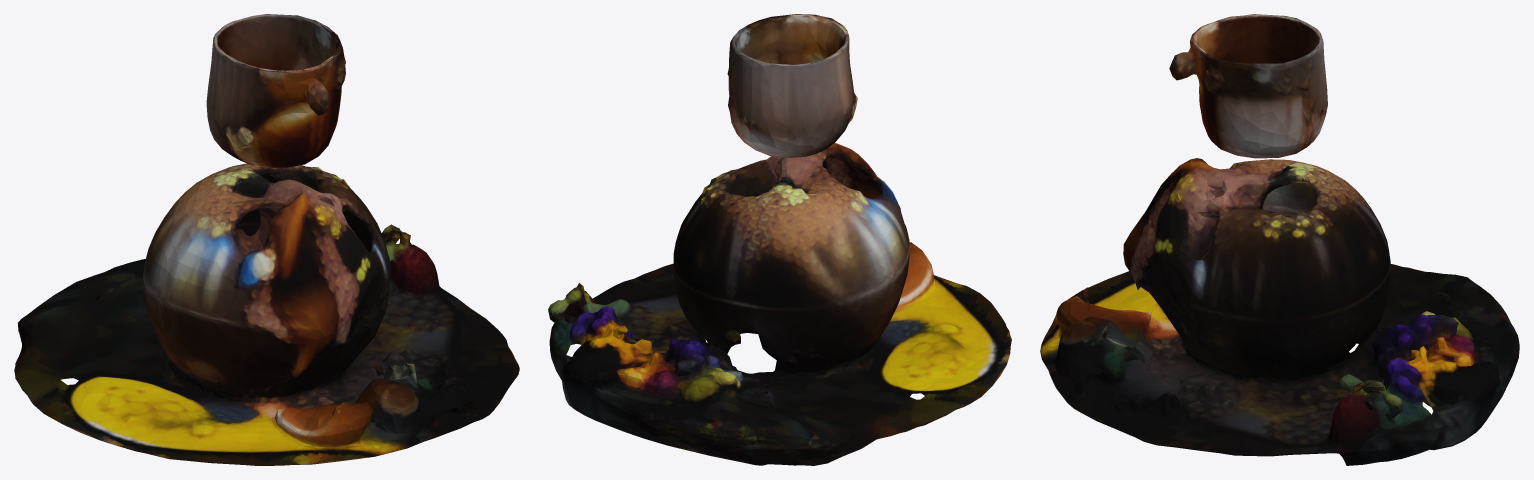
File: esfera-chocolate.glb
The picture shows the model from 3 angles, left to right: view 1: azimuth 30°, elevation 25°; view 2: azimuth 150°, elevation 25°; view 3: azimuth 270°, elevation 25°; orthographic projection. The views are drawn at different scales.
Visible parts, largest first — view 1: world; view 2: world; view 3: world.
Boxes of the visible parts, left/top/right/bottom form: world: left=14, top=14, right=519, bottom=465; world: left=548, top=14, right=1011, bottom=465; world: left=1040, top=14, right=1519, bottom=465.
Size of the model in its own units: 0.1795 by 0.1418 by 0.18.
Materials: 1 (1 with a texture image).
